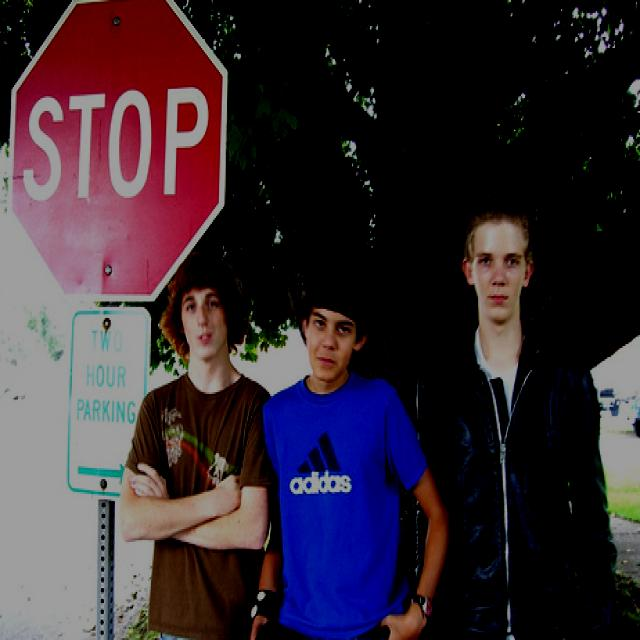Vehicle: (594, 384, 622, 416), (629, 396, 640, 435)
